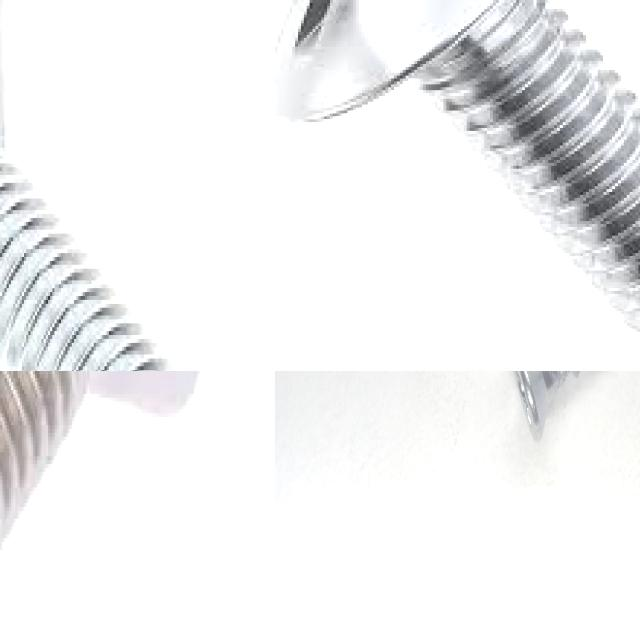Screw: (275, 0, 640, 348), (0, 0, 172, 371), (514, 371, 580, 440)
